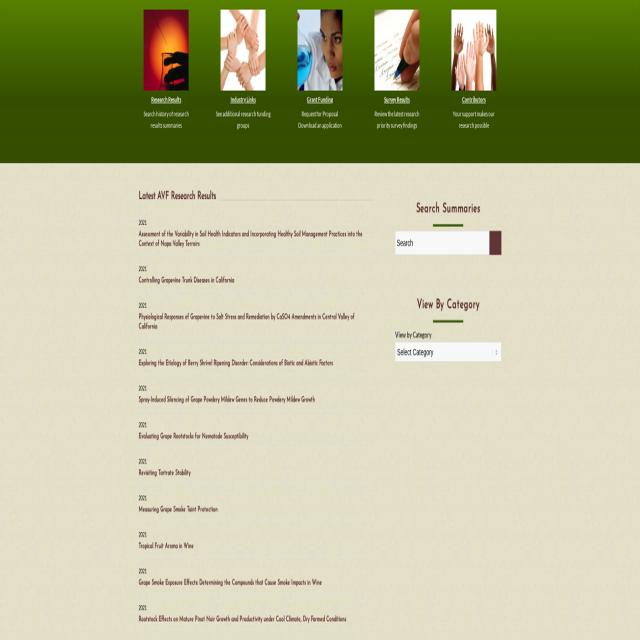button: (220, 10, 266, 90), (374, 10, 420, 90), (144, 10, 188, 90), (298, 10, 342, 90), (452, 10, 496, 90), (489, 231, 502, 254)
field: (395, 231, 501, 254), (395, 342, 501, 362)
